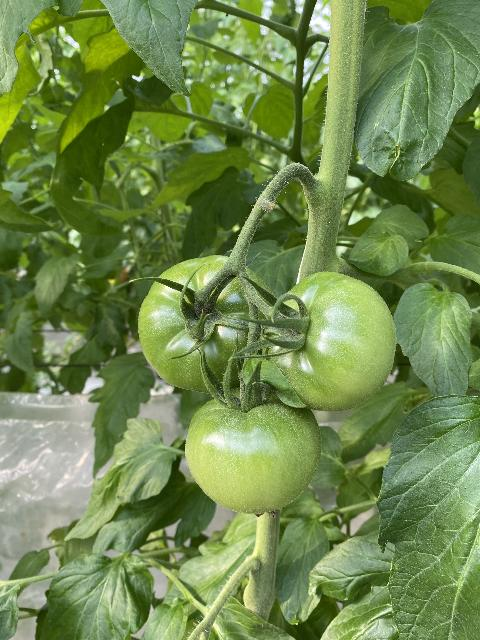b_green: (138, 255, 279, 393), (262, 271, 397, 411), (185, 383, 322, 515)
